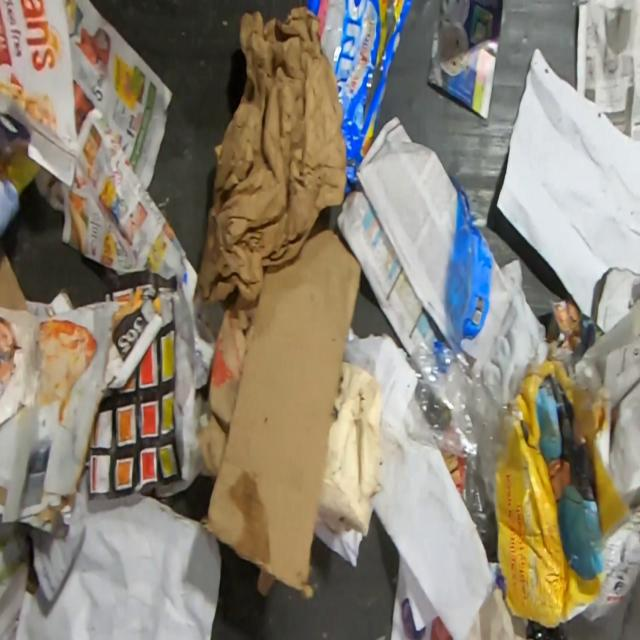cardboard: (200, 215, 361, 601), (490, 360, 630, 629), (315, 360, 384, 535), (196, 292, 255, 473), (255, 564, 276, 595)
rigid_plastic: (410, 175, 510, 564)
soft_plastic: (304, 0, 413, 201)
